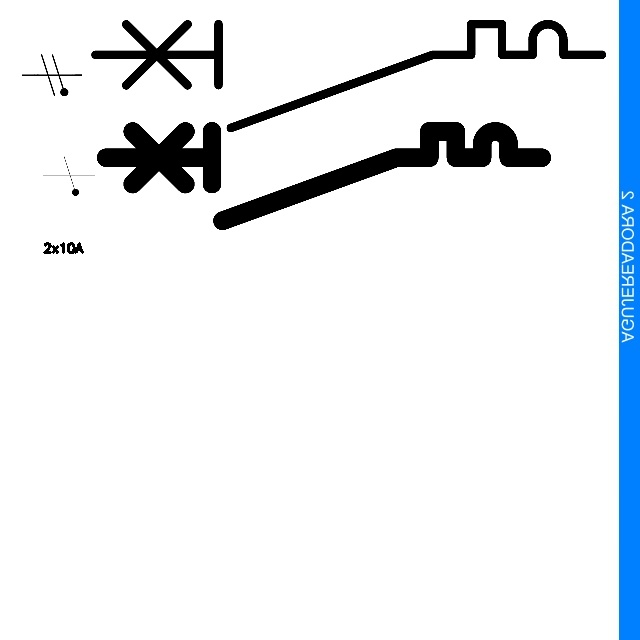interruptor_termomagnetico: (82, 11, 614, 141), (94, 120, 552, 232)
